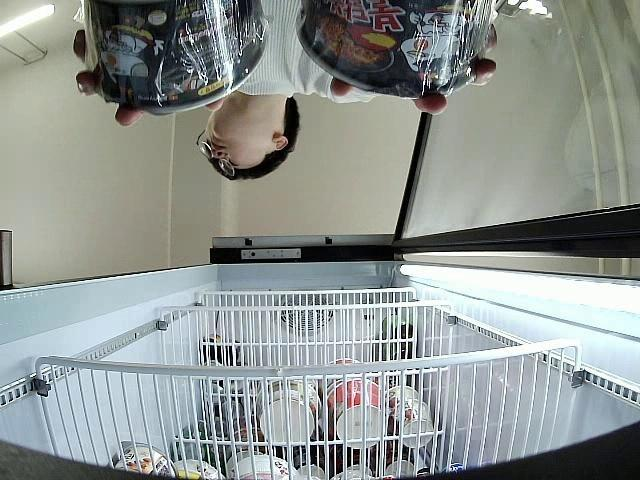07_buldak_L: (80, 0, 266, 115), (294, 0, 497, 97)
